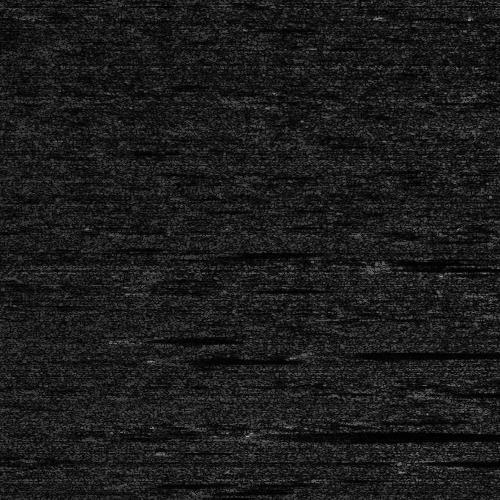object: (85, 474, 168, 487), (215, 428, 298, 439), (274, 348, 347, 357), (393, 456, 456, 465), (106, 334, 169, 343), (159, 491, 212, 500), (366, 255, 407, 266), (350, 263, 413, 270), (187, 248, 250, 255), (127, 355, 180, 362), (387, 390, 440, 397), (214, 285, 267, 290), (479, 311, 500, 318)
shadow: (257, 428, 483, 439), (310, 348, 478, 357), (387, 255, 500, 266), (382, 263, 500, 270), (127, 474, 187, 487), (137, 334, 221, 343), (154, 355, 258, 362), (425, 456, 500, 465), (218, 248, 303, 255), (186, 491, 250, 500), (414, 390, 490, 397), (241, 285, 307, 290)
